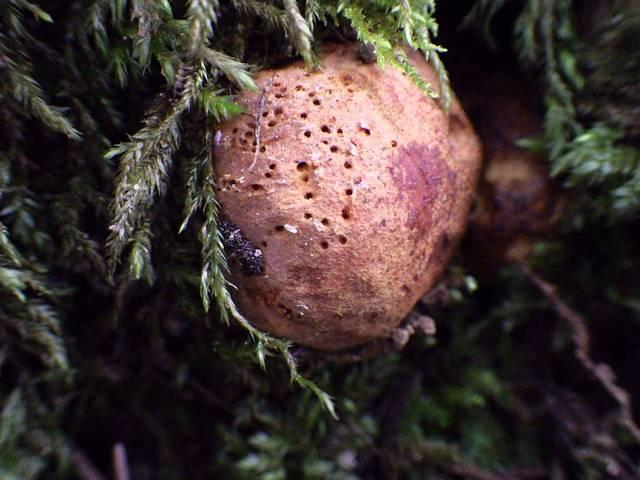Edible Mushroom: (201, 34, 483, 353)
